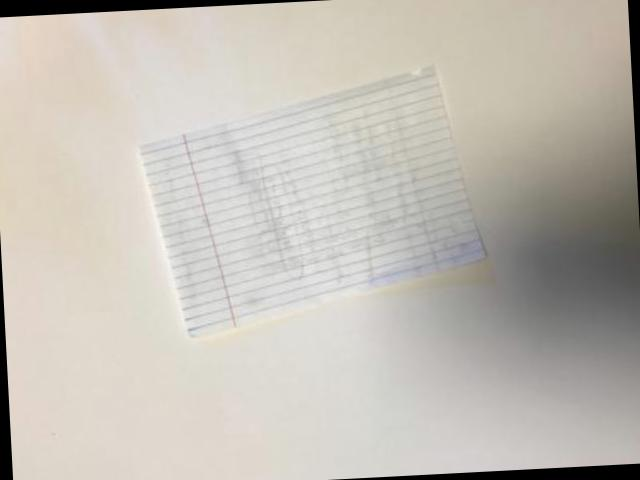cardboard paper: (138, 64, 482, 334)
